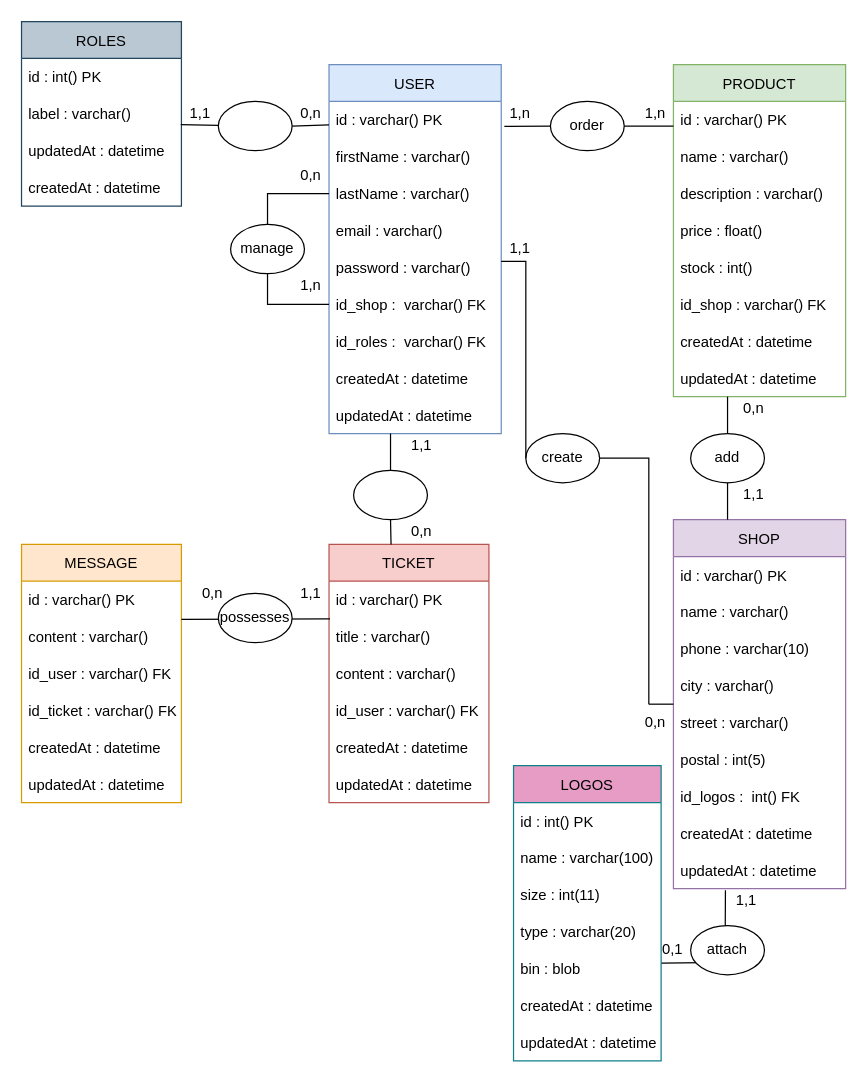
The diagram is 867 pixels wide and 1082 high, and some of its shapes have lost their labels. The centre of each missing label's shape, as x and y in pixels:
belongs: the point at 254,125
have: the point at 389,494
